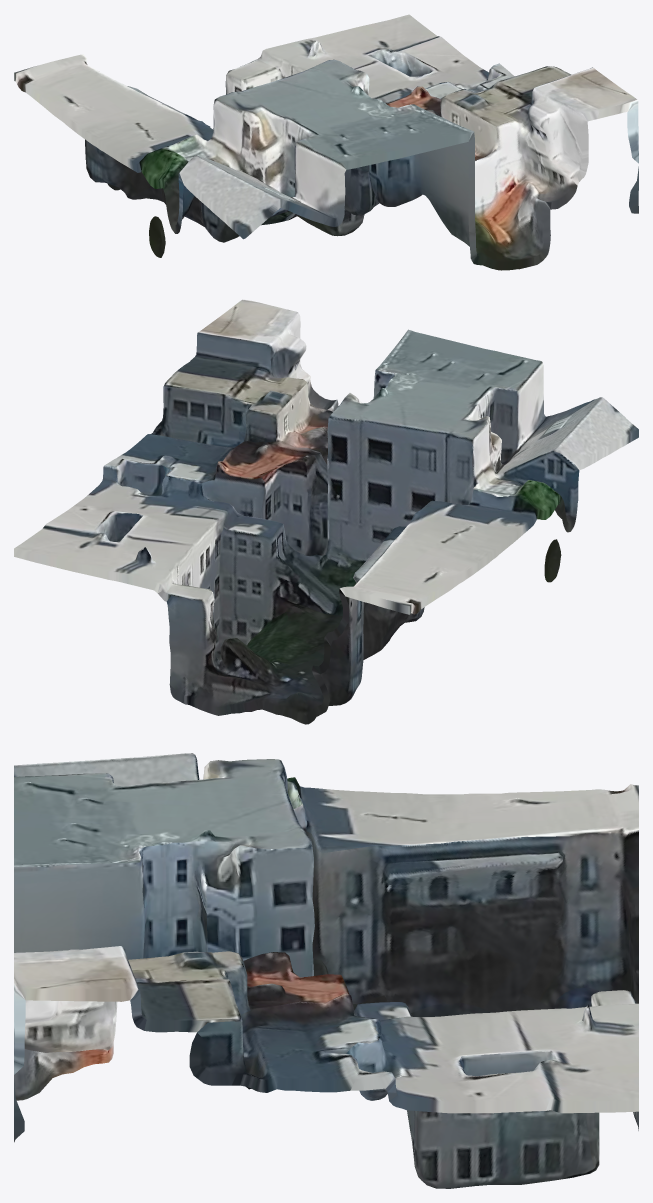
The model's file is z20-167741-405193-h0-yup-uvflip-v3-world.glb.
3 renders of one model, top to bottom at view 1: azimuth 30°, elevation 25°; view 2: azimuth 150°, elevation 25°; view 3: azimuth 270°, elevation 25°, orthographic. The views are drawn at different scales.
Size of the model in its own units: 30.16 by 16.44 by 30.32.
Materials: 1 (1 with a texture image).
